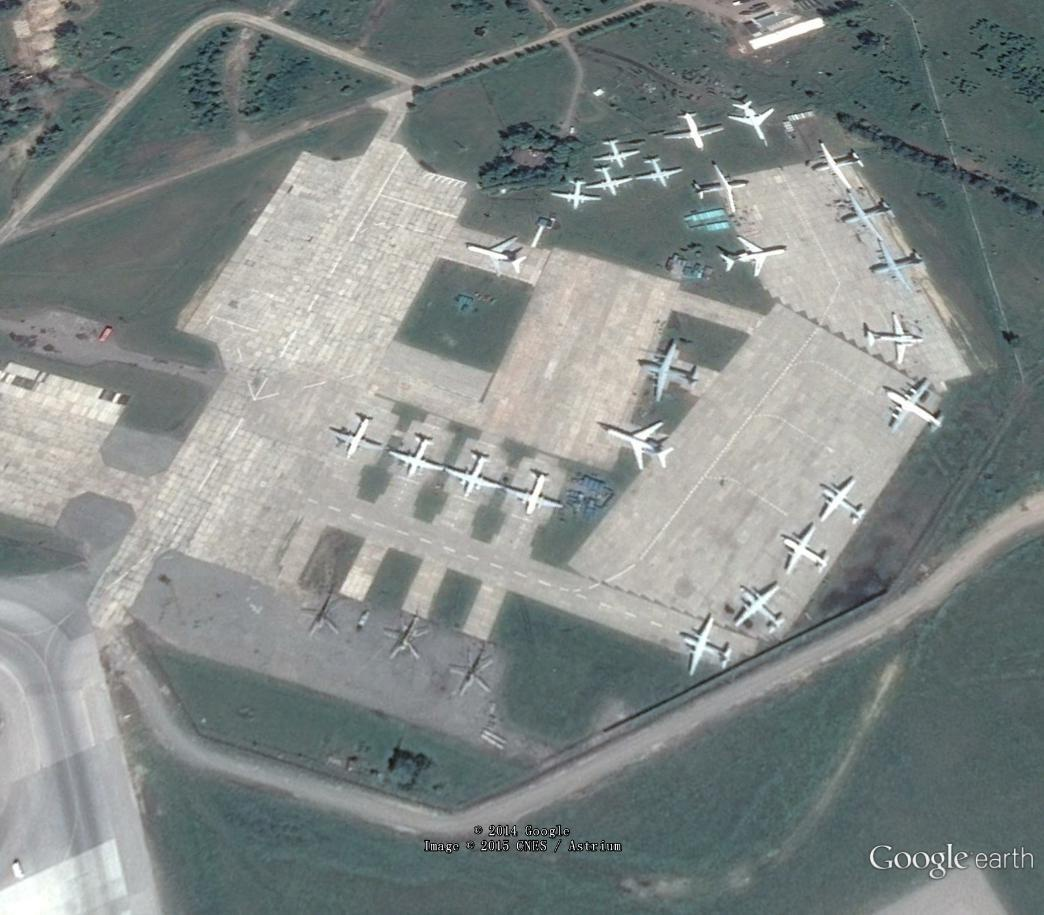aircraft: (634, 334, 706, 409), (601, 417, 678, 477), (714, 228, 792, 286), (883, 375, 949, 438), (676, 613, 738, 679), (687, 159, 753, 220), (868, 234, 934, 295), (861, 309, 925, 370), (504, 462, 568, 522), (835, 184, 900, 243), (444, 444, 507, 504), (385, 426, 447, 486), (325, 409, 384, 471), (732, 579, 789, 642), (777, 520, 834, 582), (658, 109, 733, 156), (816, 472, 874, 531), (808, 135, 868, 192), (463, 232, 534, 280), (727, 96, 783, 148), (633, 153, 690, 195), (544, 177, 603, 216), (582, 163, 636, 202), (586, 136, 643, 172)
